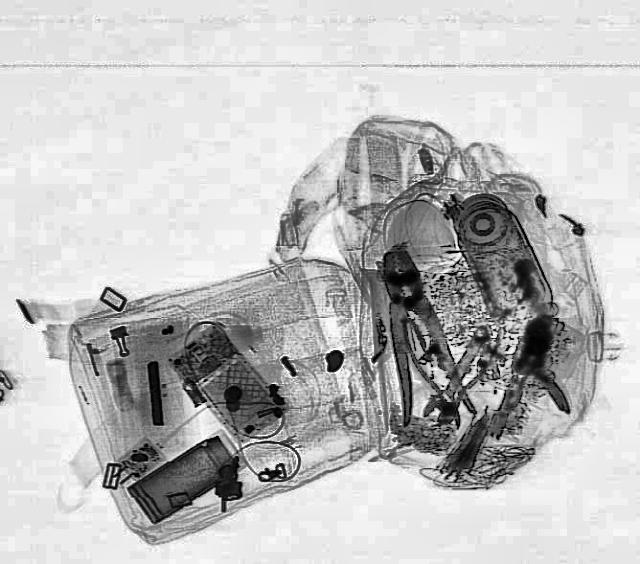Pliers: (354, 243, 476, 426), (391, 305, 504, 431)
Wrench: (418, 322, 498, 425)
